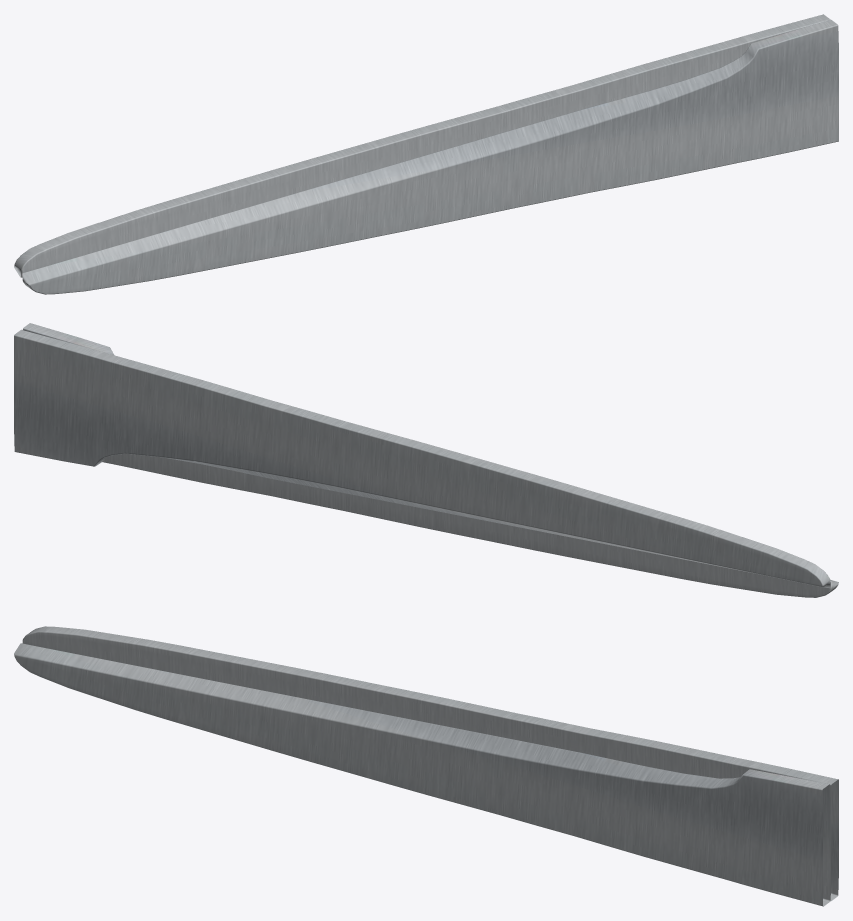
3 views of the same model, one above another, from view 1: azimuth 30°, elevation 25°; view 2: azimuth 150°, elevation 25°; view 3: azimuth 330°, elevation 25° (orthographic).
Bounding box in the file's own units: 0.4833 × 0.0674 × 0.0164.
1 material, 1 textured.
